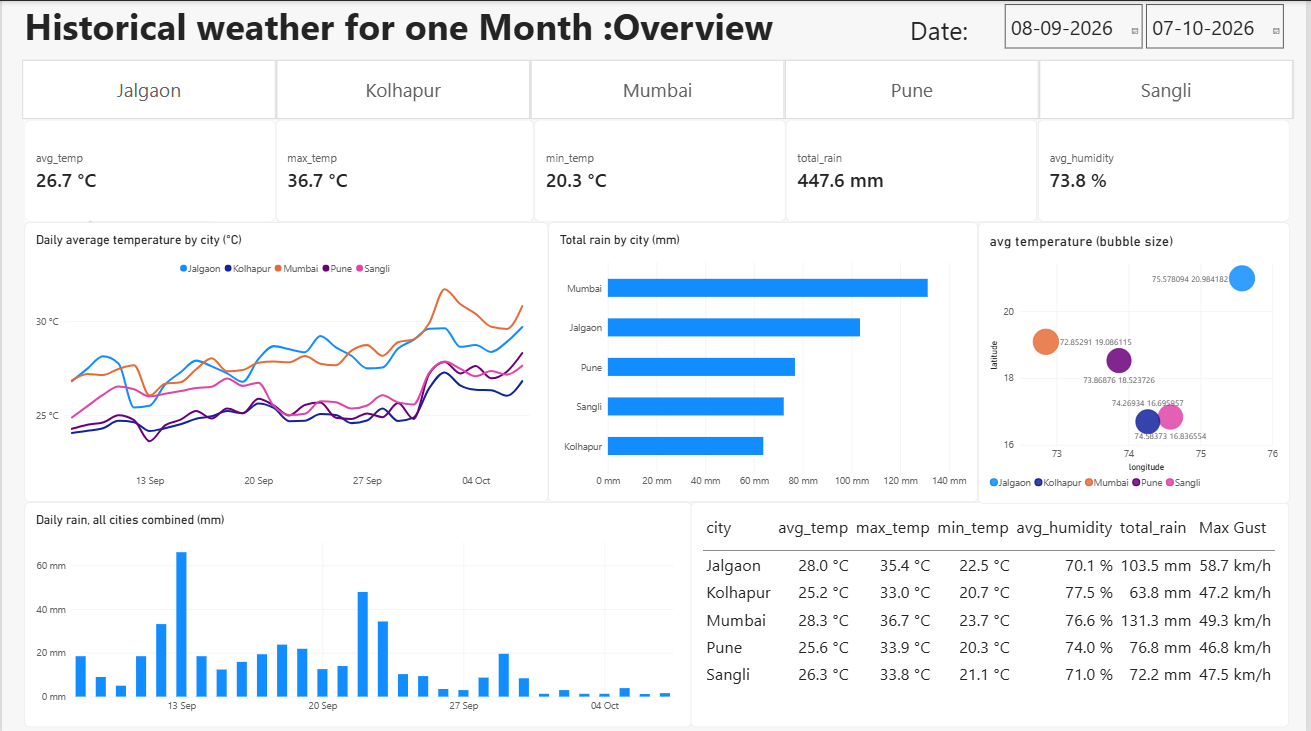

Layout of this report page (visuals, bound fields, positions):
{"tool":"powerbi","page":{"name":"Page 2","canvas":[1920,1080],"ordinal":1},"visuals":[{"type":"slicer","fields":{"Values":["dimcity.city"]},"box":[10.3,84.4,1910.1,90.6],"z":0},{"type":"cardVisual","box":[32.9,175,370.5,150.3],"z":1000},{"type":"cardVisual","fields":{"Data":["factweatherhistorical.avg_temp"]},"box":[32.9,175,370.5,150.3],"z":2000},{"type":"cardVisual","fields":{"Data":["factweatherhistorical.max_temp"]},"box":[403.1,174.8,381,150.9],"z":3000},{"type":"cardVisual","fields":{"Data":["factweatherhistorical.min_temp"]},"box":[784.2,175,370.5,150.3],"z":4000},{"type":"cardVisual","fields":{"Data":["factweatherhistorical.avg_humidity"]},"box":[1525.2,175,370.5,150.3],"z":5000},{"type":"cardVisual","fields":{"Data":["factweatherhistorical.total_rain"]},"box":[1154.7,175,370.5,150.3],"z":6000},{"type":"lineChart","title":"Daily average temperature by city (°C)","fields":{"Category":["factweatherhistorical.Date"],"Series":["dimcity.city"],"Y":["factweatherhistorical.avg_temp"]},"box":[33.1,325.8,771.2,412.3],"z":7000},{"type":"clusteredBarChart","title":"Total rain by city (mm)","fields":{"Category":["dimcity.city"],"Y":["factweatherhistorical.total_rain"]},"box":[804.3,325.8,633.1,412.3],"z":8000},{"type":"clusteredColumnChart","title":"Daily rain, all cities combined (mm)","fields":{"Category":["factweatherhistorical.Date"],"Y":["factweatherhistorical.total_rain"]},"box":[32.9,738.9,982,331],"z":9000},{"type":"tableEx","fields":{"Values":["dimcity.city","select","factweatherhistorical.avg_temp","select1","factweatherhistorical.max_temp","select2","factweatherhistorical.min_temp","select3","factweatherhistorical.avg_humidity","select4","factweatherhistorical.total_rain","select5"]},"box":[1014.8,738.9,881,331.4],"z":10000},{"type":"scatterChart","title":"avg temperature (bubble size)","fields":{"Series":["dimcity.city"],"Size":["factweatherhistorical.avg_temp"],"X":["dimcity.longitude"],"Y":["dimcity.latitude"]},"box":[1437.4,325.8,458.3,414.1],"z":11000},{"type":"textbox","box":[32.9,0,1403.8,84.4],"z":12000},{"type":"slicer","fields":{"Values":["dimcity.city"]},"box":[9.9,84.4,1910.1,90.6],"z":13000}]}

Visuals, with their boxes in screenshot pixels (x1, y1, x2, y2), scaled from the page's 1920x1080 canvas onto the 1311x731 screenshot:
slicer - dimcity.city: x1=7, y1=57, x2=1310, y2=118
cardVisual: x1=22, y1=118, x2=275, y2=220
cardVisual - factweatherhistorical.avg_temp: x1=22, y1=118, x2=275, y2=220
cardVisual - factweatherhistorical.max_temp: x1=275, y1=118, x2=535, y2=220
cardVisual - factweatherhistorical.min_temp: x1=535, y1=118, x2=788, y2=220
cardVisual - factweatherhistorical.avg_humidity: x1=1041, y1=118, x2=1294, y2=220
cardVisual - factweatherhistorical.total_rain: x1=788, y1=118, x2=1041, y2=220
"Daily average temperature by city (°C)" lineChart: x1=23, y1=221, x2=549, y2=500
"Total rain by city (mm)" clusteredBarChart: x1=549, y1=221, x2=981, y2=500
"Daily rain, all cities combined (mm)" clusteredColumnChart: x1=22, y1=500, x2=693, y2=724
tableEx - dimcity.city x select: x1=693, y1=500, x2=1294, y2=724
"avg temperature (bubble size)" scatterChart: x1=981, y1=221, x2=1294, y2=501
textbox: x1=22, y1=0, x2=981, y2=57
slicer - dimcity.city: x1=7, y1=57, x2=1310, y2=118
